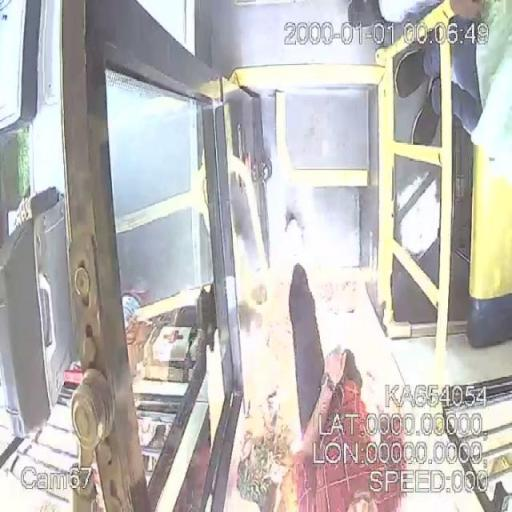persona: (287, 262, 405, 511), (410, 0, 490, 146)
